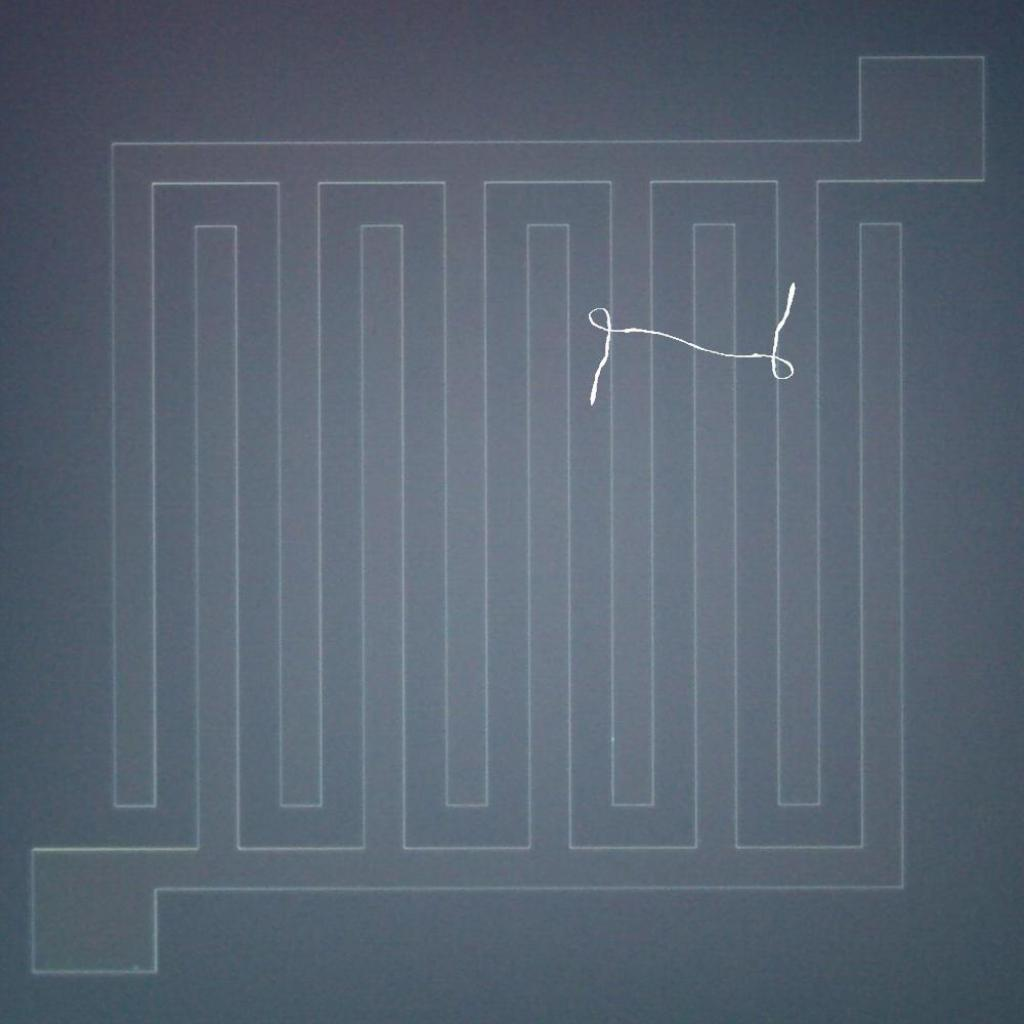line: (578, 266, 810, 417)
